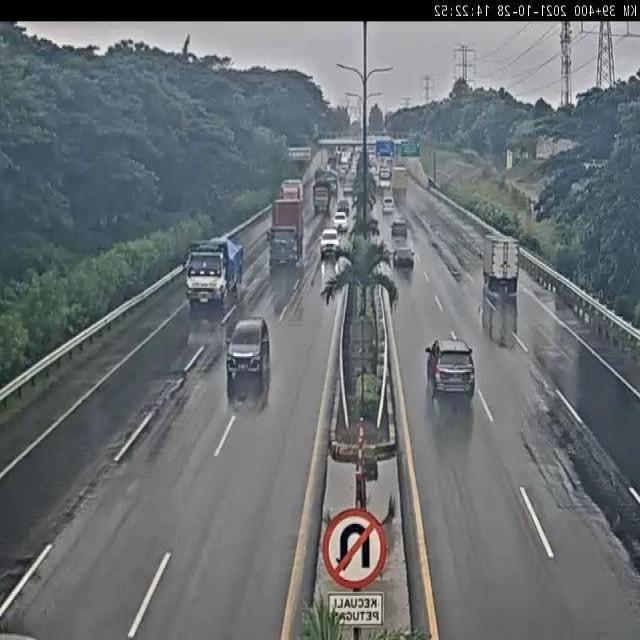Car: (426, 339, 476, 401), (226, 317, 270, 383), (320, 227, 340, 257), (333, 210, 349, 232), (391, 219, 407, 237), (336, 199, 350, 216), (338, 165, 348, 182)
Truck: (185, 236, 243, 313), (271, 180, 307, 270), (483, 235, 520, 298), (312, 169, 337, 215), (392, 165, 408, 201)
Van: (382, 196, 395, 214)
